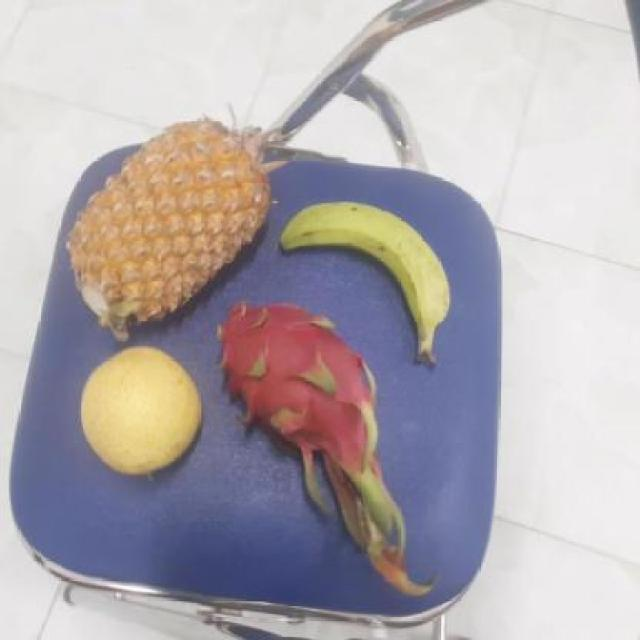banana: (272, 199, 448, 355)
dragon fruit: (205, 301, 382, 473)
pear: (74, 351, 201, 477)
pineapple: (62, 124, 272, 331)
